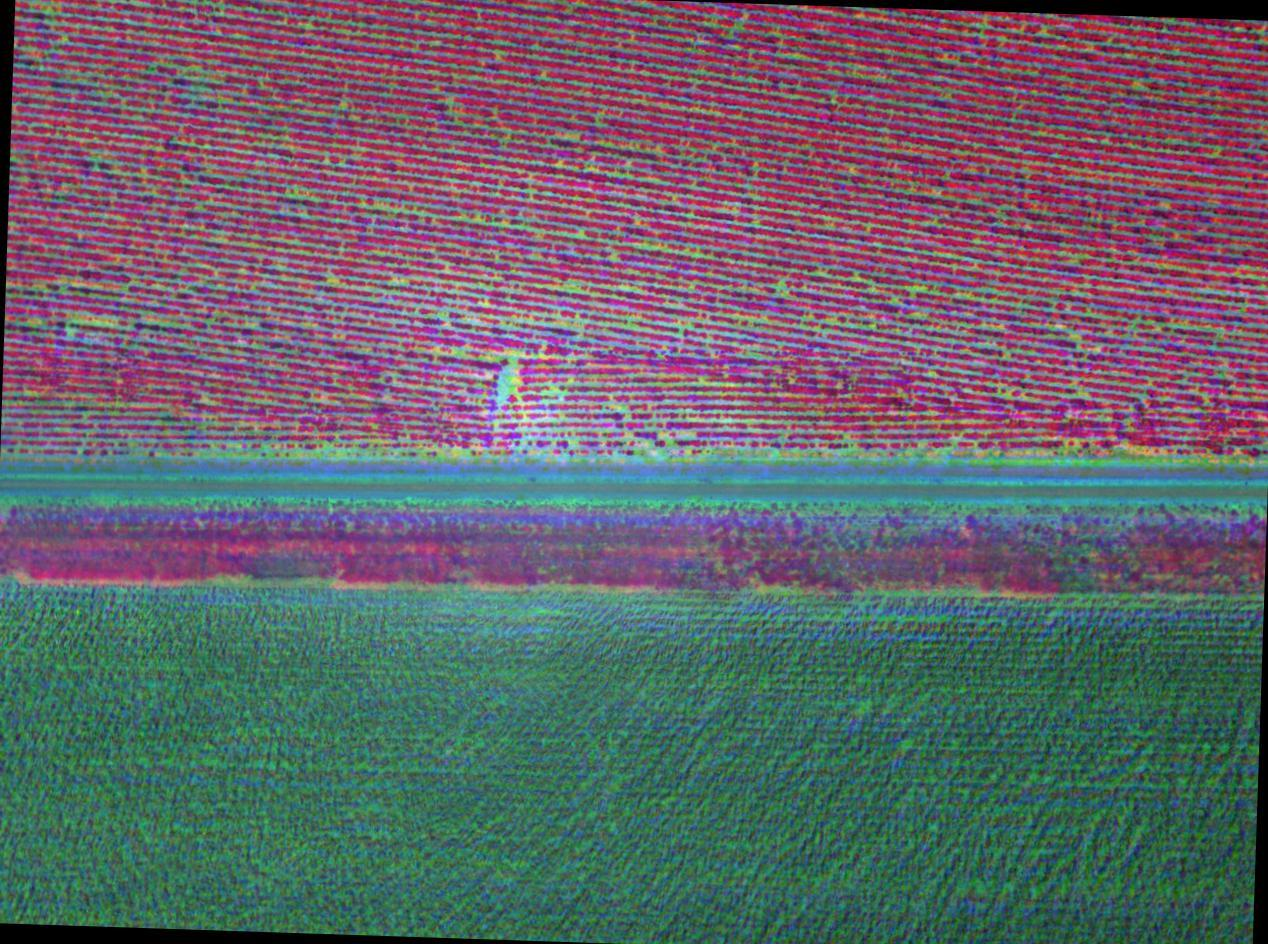dc: (578, 234, 584, 238), (462, 217, 466, 222), (694, 253, 699, 257), (1075, 336, 1079, 341), (94, 158, 97, 163), (918, 288, 922, 291), (153, 62, 156, 66), (48, 11, 51, 14), (1079, 394, 1082, 397)
